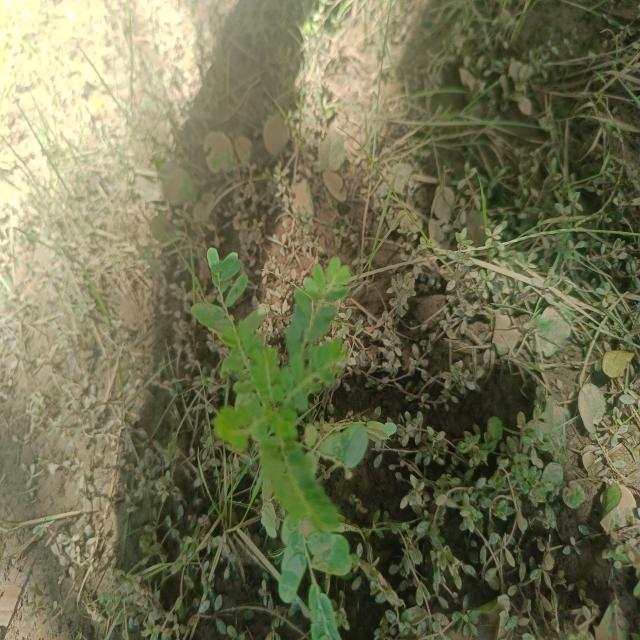weed: (189, 243, 404, 640)
